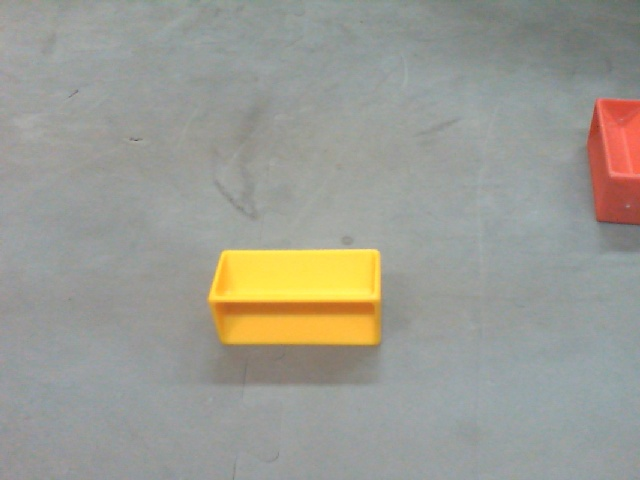RedSample: (585, 97, 640, 227)
YellowSample: (208, 244, 382, 346)
